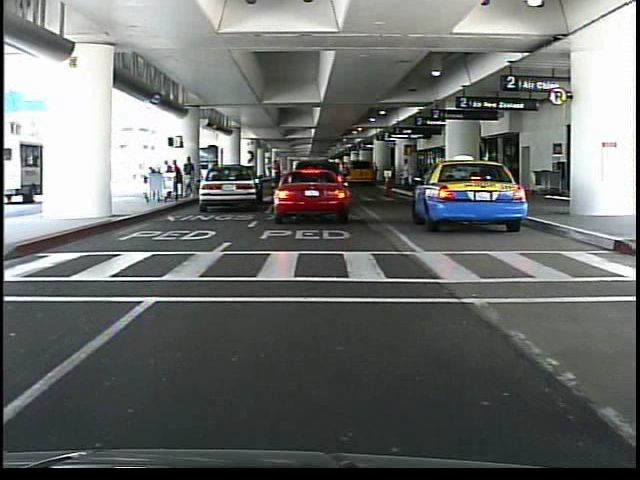person: (271, 158, 287, 202), (338, 157, 351, 201), (187, 156, 199, 200), (322, 167, 333, 202), (401, 159, 411, 191), (409, 158, 410, 192)
